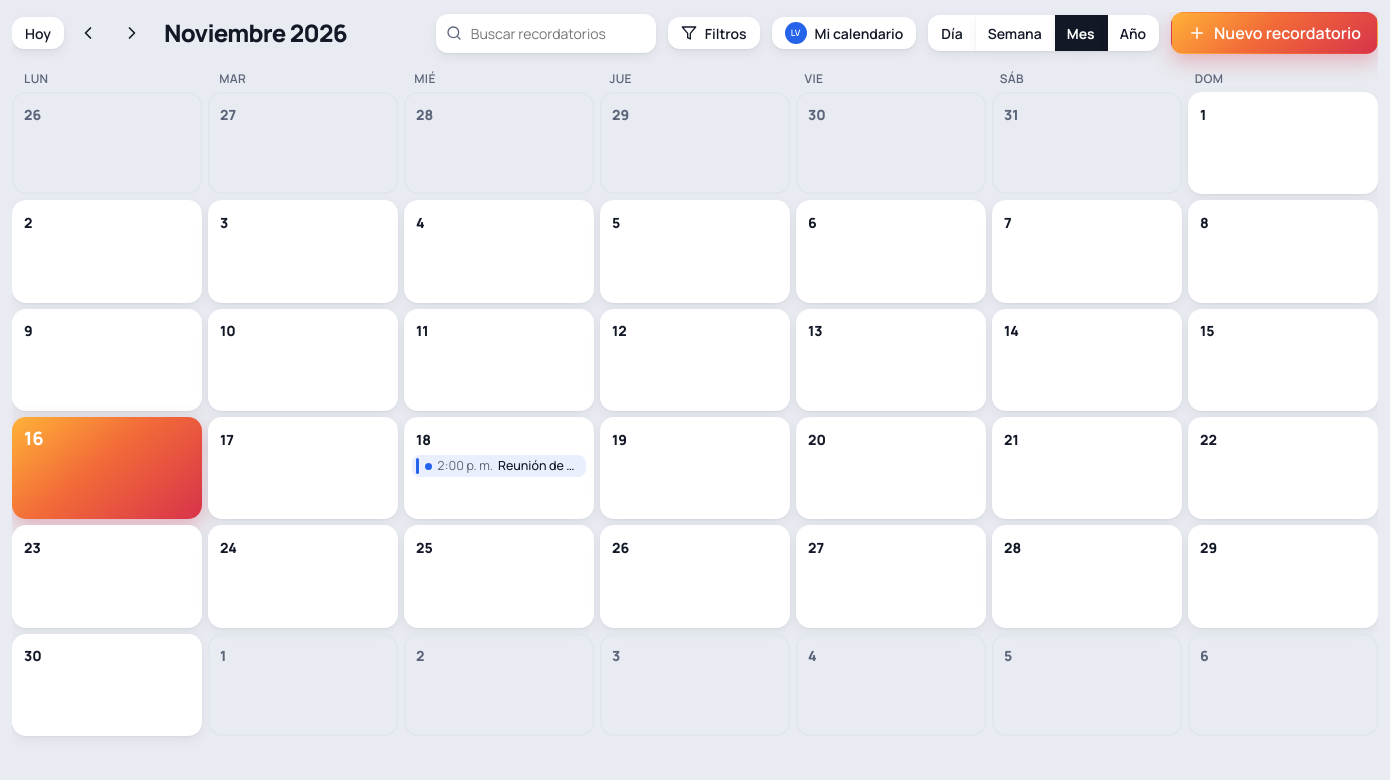
CalendarPage › navega entre meses y vuelve a hoy
This screenshot has width=1390, height=780.
Click the button named "Mes siguiente" at coordinates (132, 33), box [112,13,152,53]
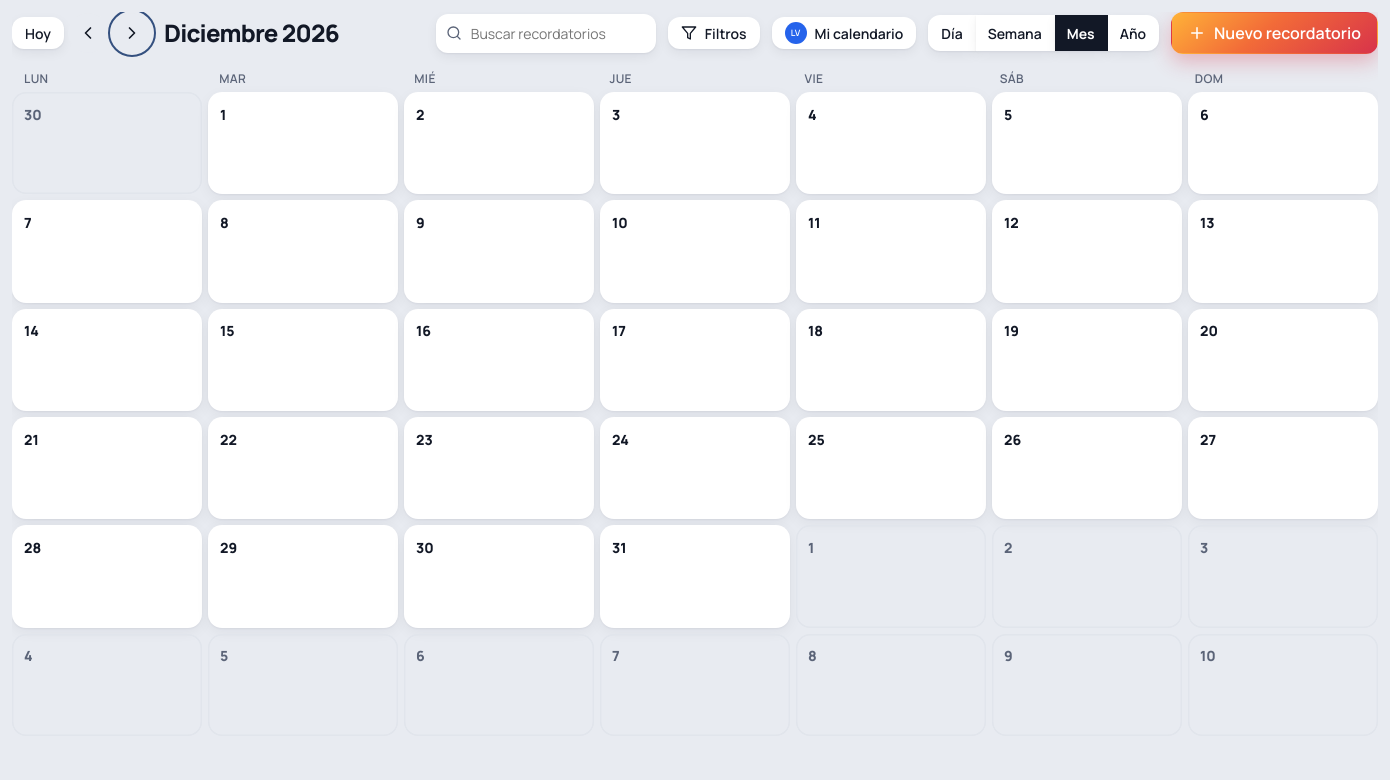
Result: the heading "Diciembre 2026" is shown at [164,15,339,51]
Click the button "Hoy" at coordinates (38, 33), box [12,17,64,49]
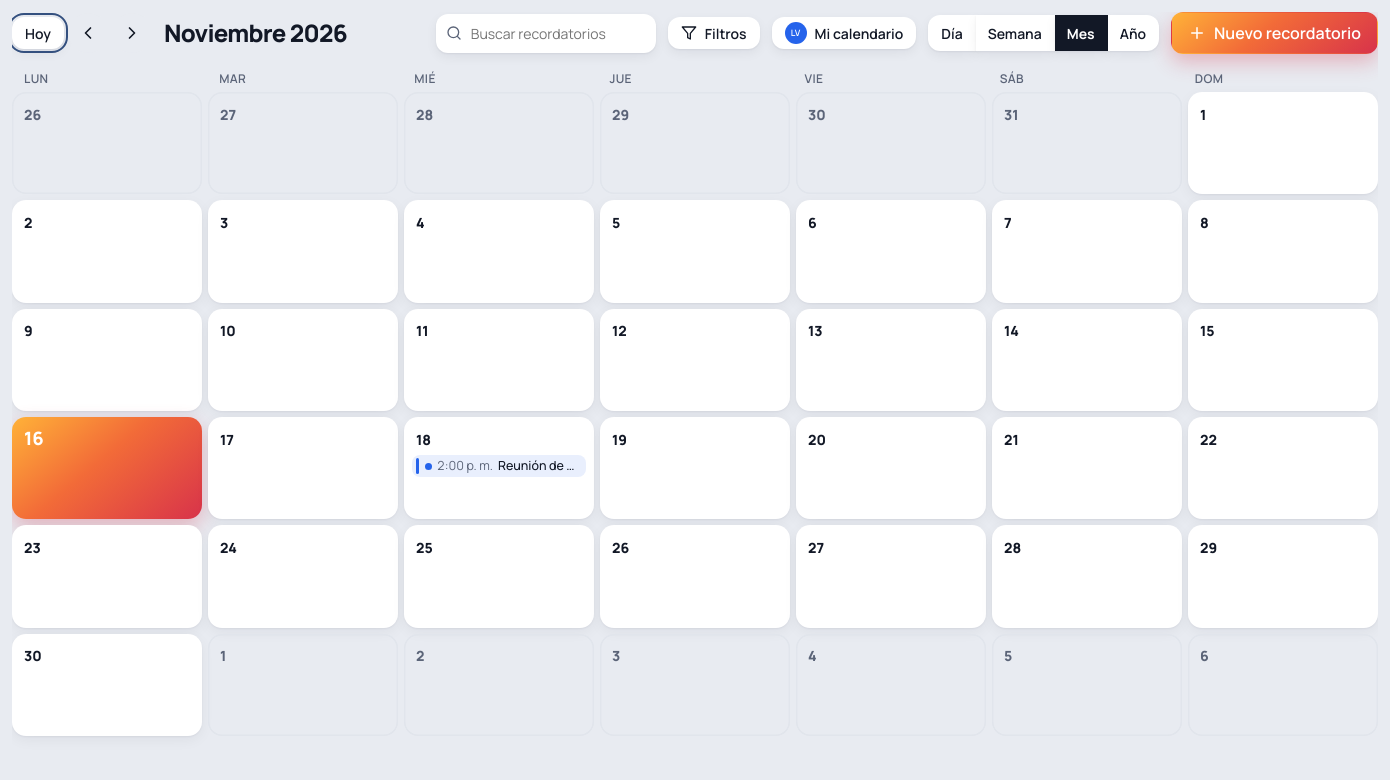
Result: the heading "Noviembre 2026" is shown at [164,15,347,51]
